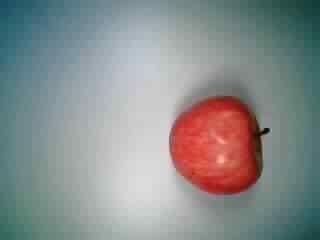apple: (167, 96, 271, 197)
